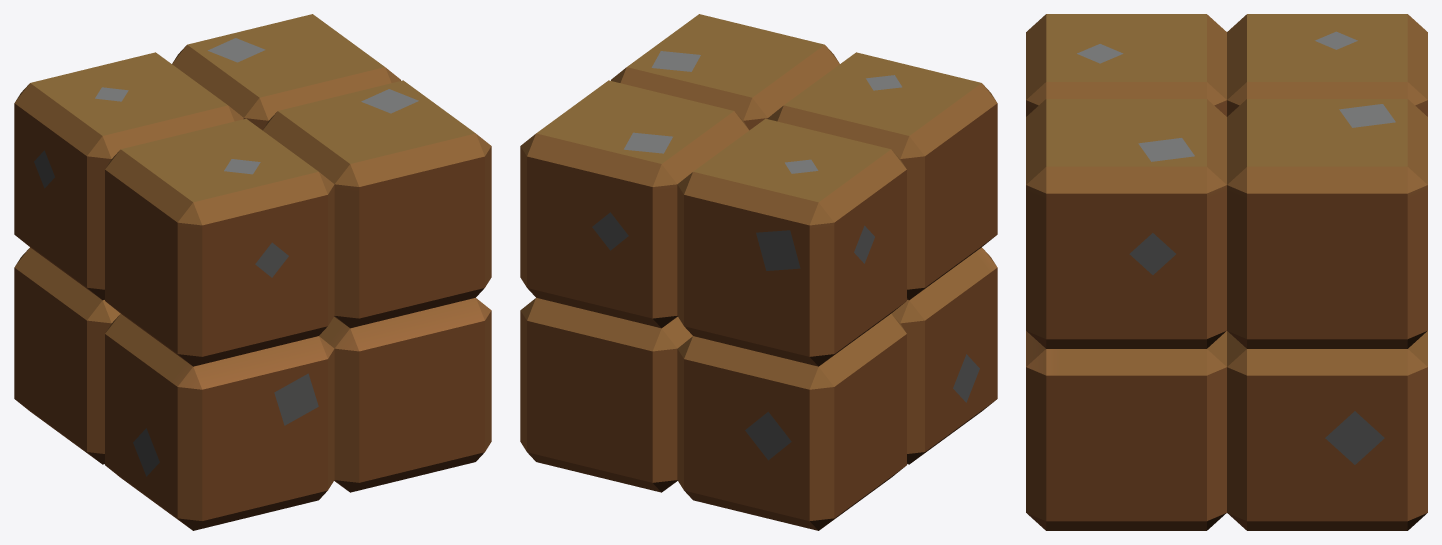
The model's file is m_kub_dirt_miniCubePile.FBX.
3 views of the same model, side by side, from view 1: azimuth 30°, elevation 25°; view 2: azimuth 150°, elevation 25°; view 3: azimuth 270°, elevation 25° (orthographic). The views are drawn at different scales.
Parts seen in each view (by area): view 1: m_kub_dirt_miniCubePile; view 2: m_kub_dirt_miniCubePile; view 3: m_kub_dirt_miniCubePile.
Part boxes in pixels (bbox=[...]): m_kub_dirt_miniCubePile: bbox=[14, 14, 491, 530]; m_kub_dirt_miniCubePile: bbox=[520, 14, 997, 530]; m_kub_dirt_miniCubePile: bbox=[1026, 14, 1427, 530].
Bounding box in the file's own units: 2 × 2 × 2.
